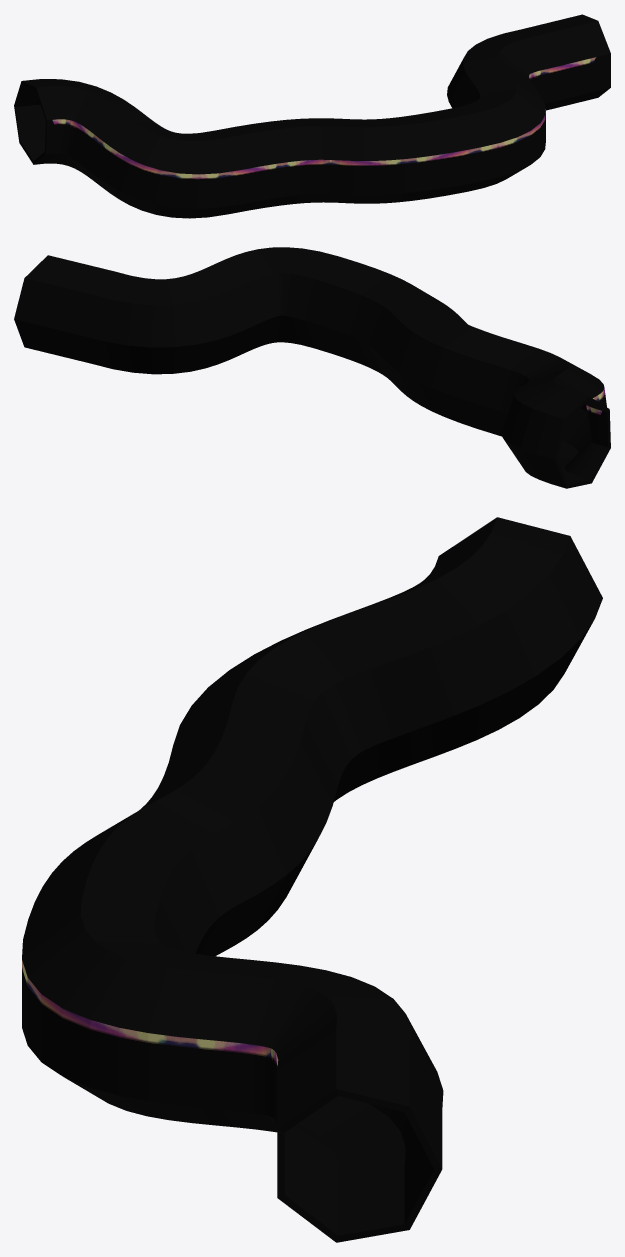
The model's file is AfterStartunnel.fbx.
The picture shows the model from 3 angles, top to bottom: view 1: azimuth 30°, elevation 25°; view 2: azimuth 150°, elevation 25°; view 3: azimuth 270°, elevation 25°; orthographic projection. The views are drawn at different scales.
Visible parts, largest first — view 1: tybe; view 2: tybe; view 3: tybe.
Boxes of the visible parts, left/top/right/bottom form: tybe: left=14, top=14, right=610, bottom=218; tybe: left=14, top=247, right=610, bottom=488; tybe: left=22, top=517, right=602, bottom=1242.
Size of the model in its own units: 4025 by 1909 by 790.
